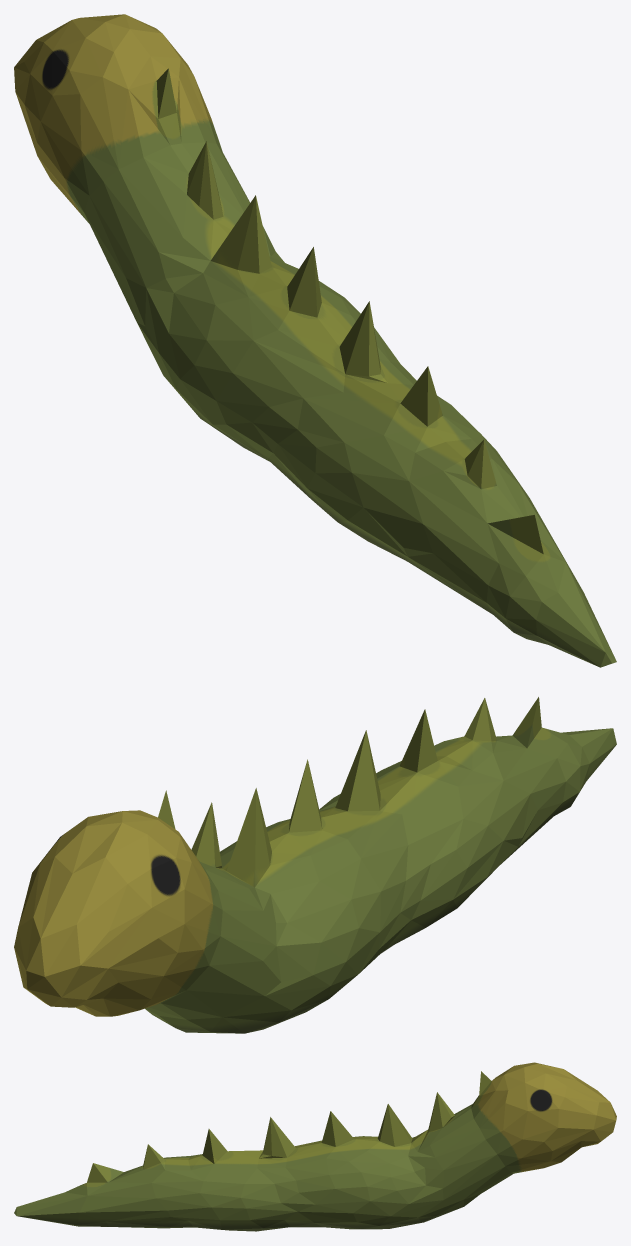
File: animal_iguana_blob.obj
3 renders of one model, top to bottom at view 1: azimuth 30°, elevation 25°; view 2: azimuth 150°, elevation 25°; view 3: azimuth 270°, elevation 25°, orthographic. The views are drawn at different scales.
Parts seen in each view (by area): view 1: animal_iguana_blob; view 2: animal_iguana_blob; view 3: animal_iguana_blob.
Part boxes in pixels (x1,y1,x2,y2): animal_iguana_blob: [14, 14, 616, 667]; animal_iguana_blob: [14, 697, 616, 1033]; animal_iguana_blob: [14, 1062, 616, 1231].
Bounding box in the file's own units: 0.1945 × 0.3403 × 1.16.
